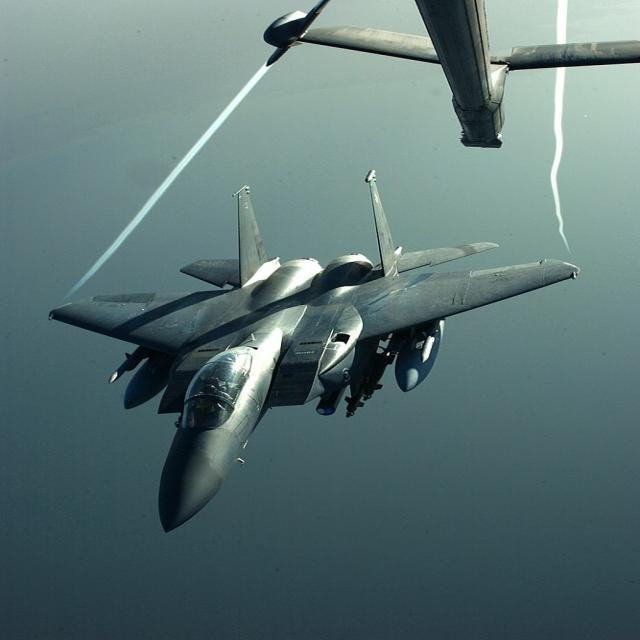MIL_Plane: (46, 168, 584, 534)
